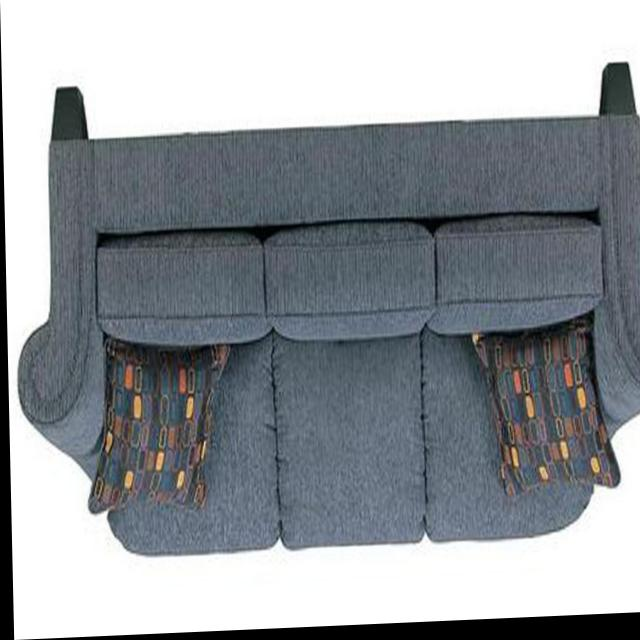Sofa: (11, 65, 640, 564)
